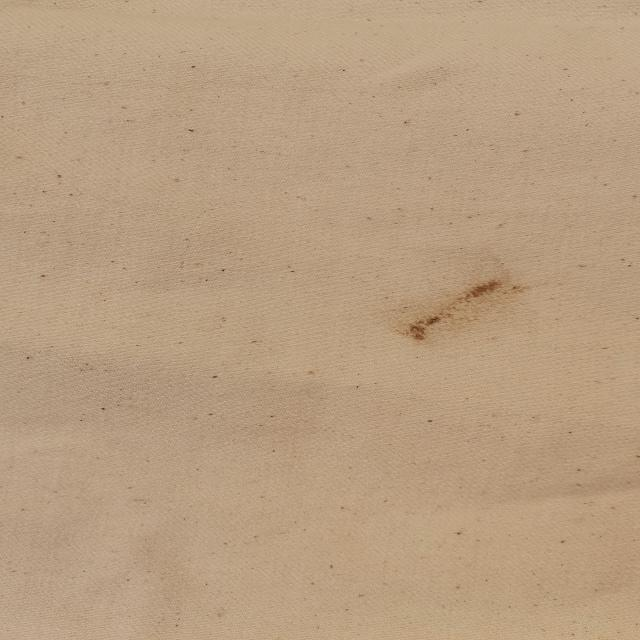taaaches: (376, 264, 530, 347)
